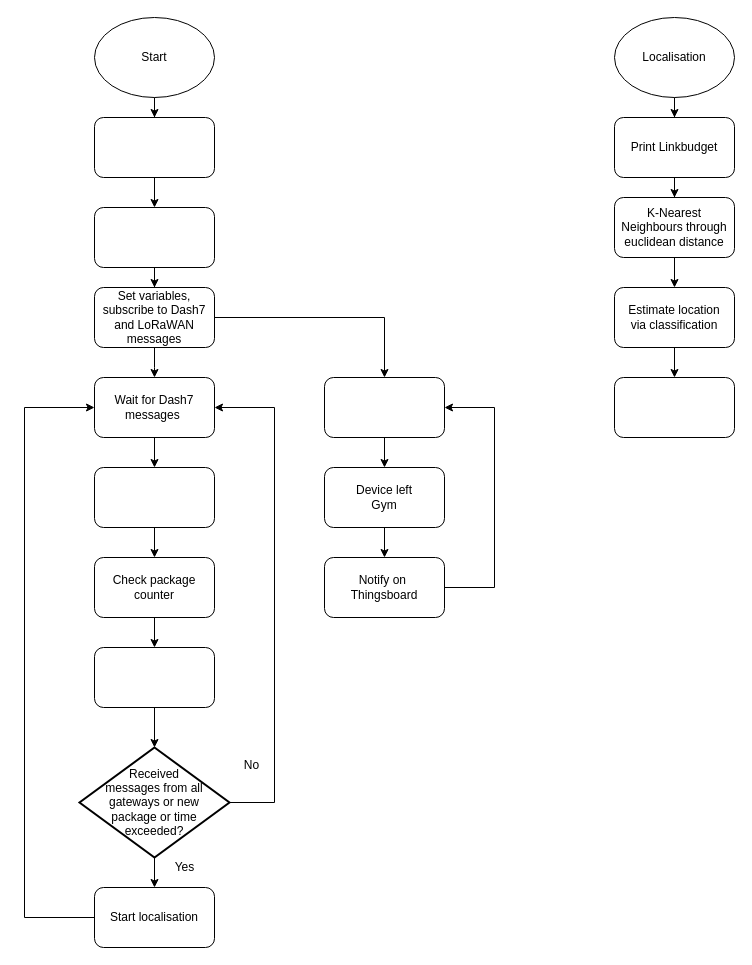
Some shapes in this 752 by 965 pixel diagram are drawn without their labels. Each missing label, with the box of its shape:
Check Timer: (94, 646, 214, 708)
Initialize Server: (94, 116, 214, 178)
Load data from mongodb: (94, 206, 214, 268)
Received message, Save payload: (94, 466, 214, 528)
Send data to Thingsboard: (614, 376, 734, 438)
Wait for LoRaWAN messages: (324, 376, 444, 438)
